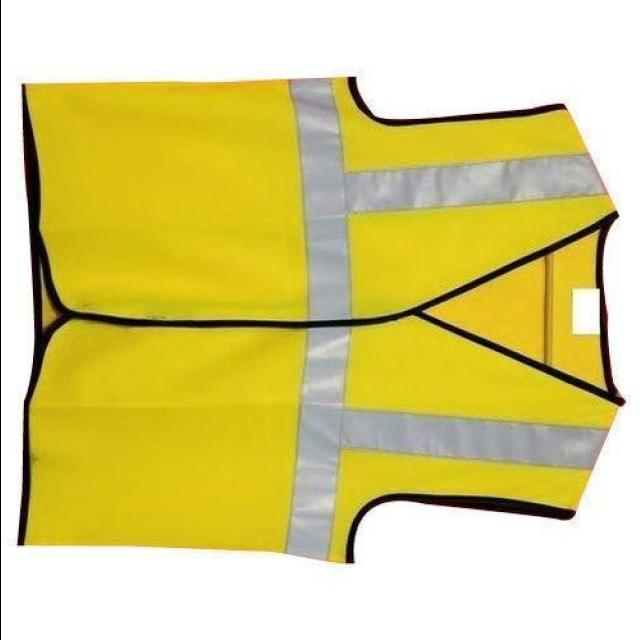jacket: (19, 74, 628, 558)
